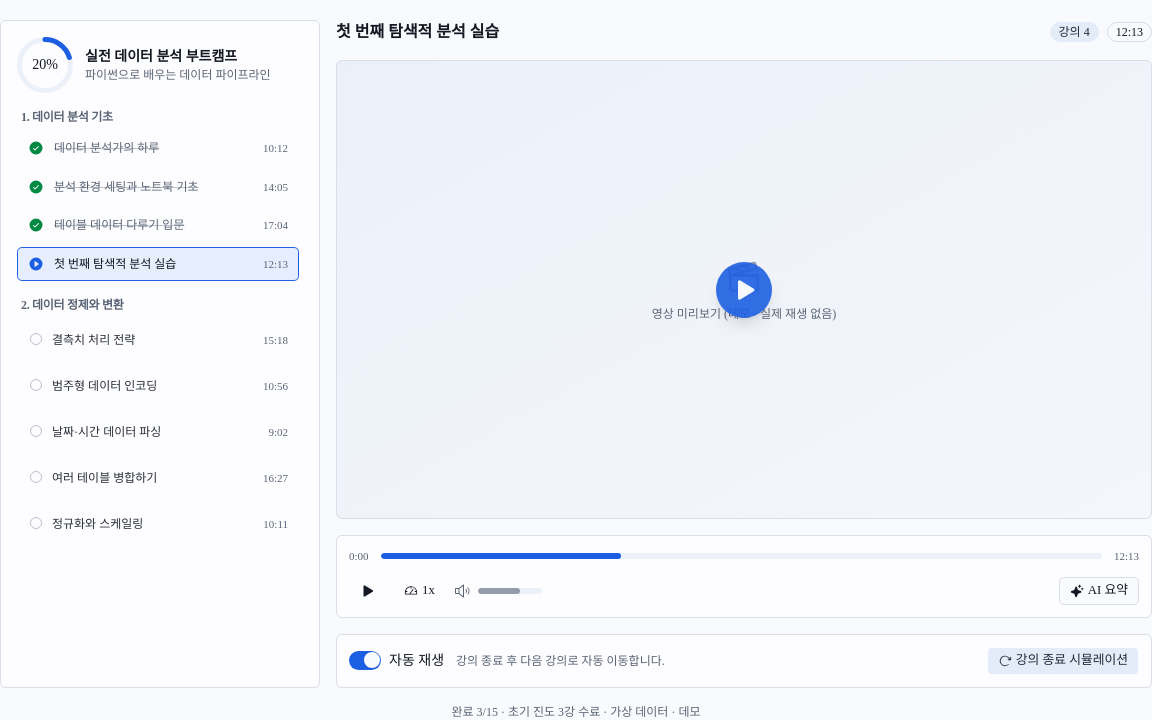
Test case: ElearningPlayerPage › opens the AI summary dialog with the current lesson bullets
The width and height of the screenshot is (1152, 720).
(page scrolled)
Click the button "AI 요약" at (1099, 590), box top-left (1059, 576), bottom-right (1139, 604)
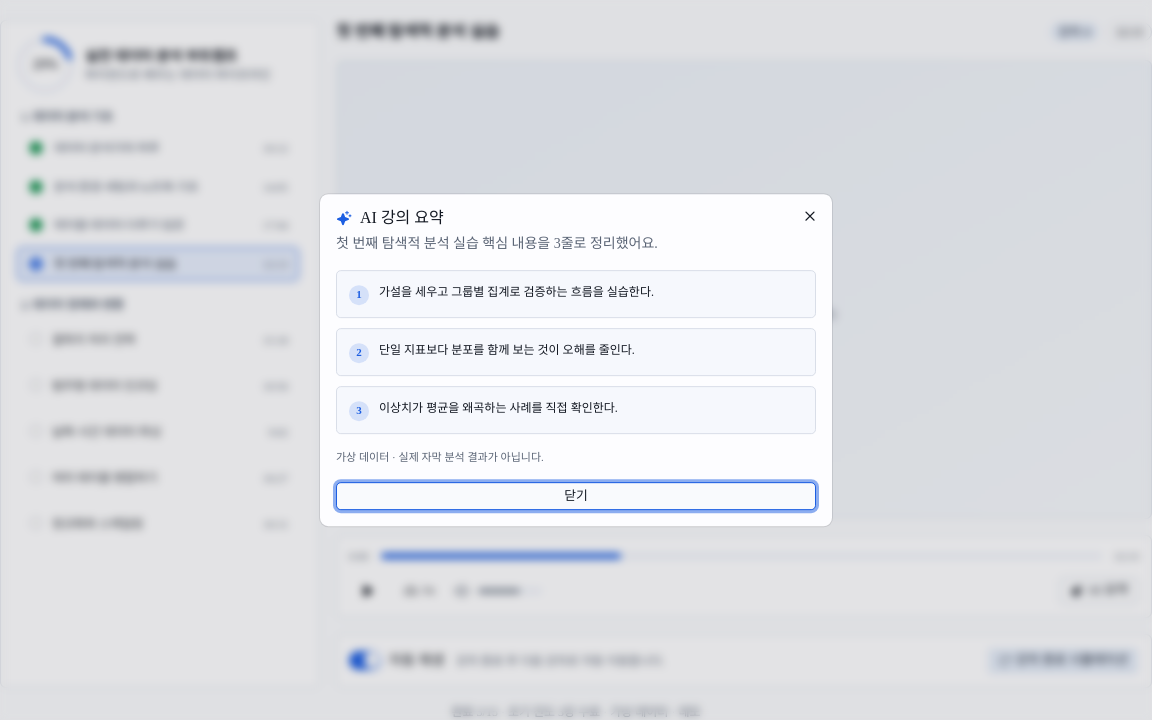
Now the dialog is shown, box top-left (320, 194), bottom-right (832, 526)
Now the heading "AI 강의 요약" is shown, box top-left (336, 209), bottom-right (444, 226)
Now the text "가설을 세우고 그룹별 집계로 검증하는 흐름을 실습한다." is shown, box top-left (379, 283), bottom-right (654, 305)
